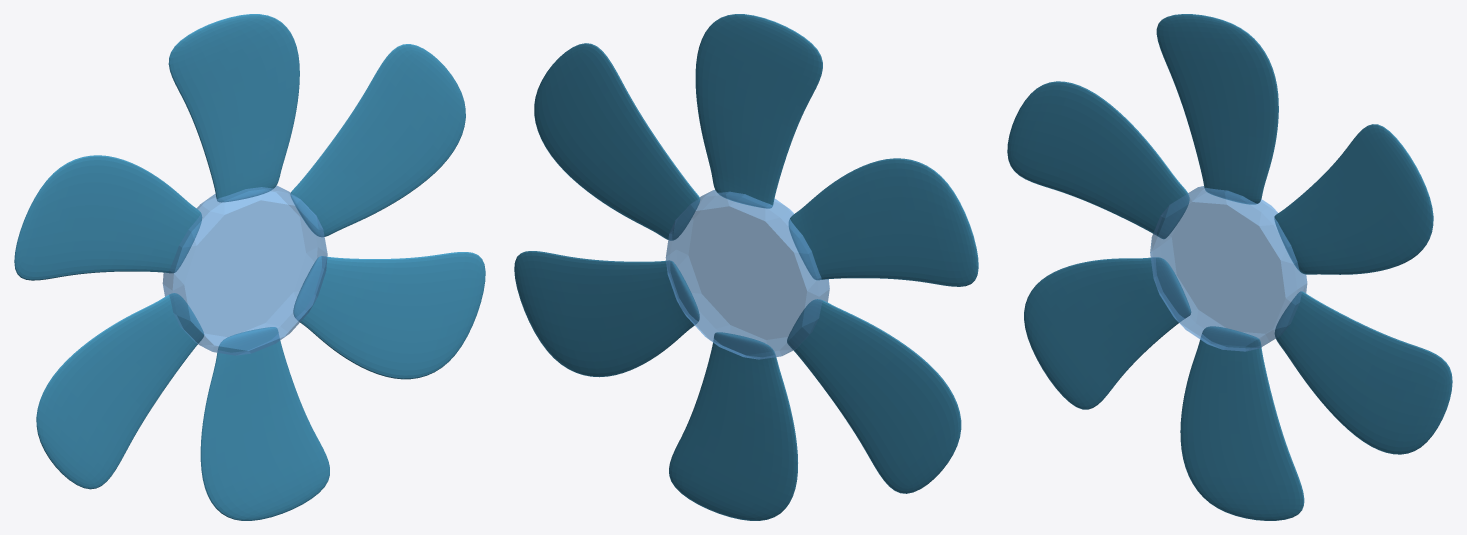
Rendered from fan.obj.
3 renders of one model, left to right at view 1: azimuth 30°, elevation 25°; view 2: azimuth 150°, elevation 25°; view 3: azimuth 330°, elevation 25°, orthographic. The views are drawn at different scales.
Visible parts, largest first — view 1: 平面.001; view 2: 平面.001; view 3: 平面.001.
Boxes of the visible parts, <box> form: 平面.001: <box>14,14,485,520</box>; 平面.001: <box>514,14,978,520</box>; 平面.001: <box>1007,14,1452,520</box>.
Bounding box in the file's own units: 0.6938 × 0.7208 × 0.0571.
